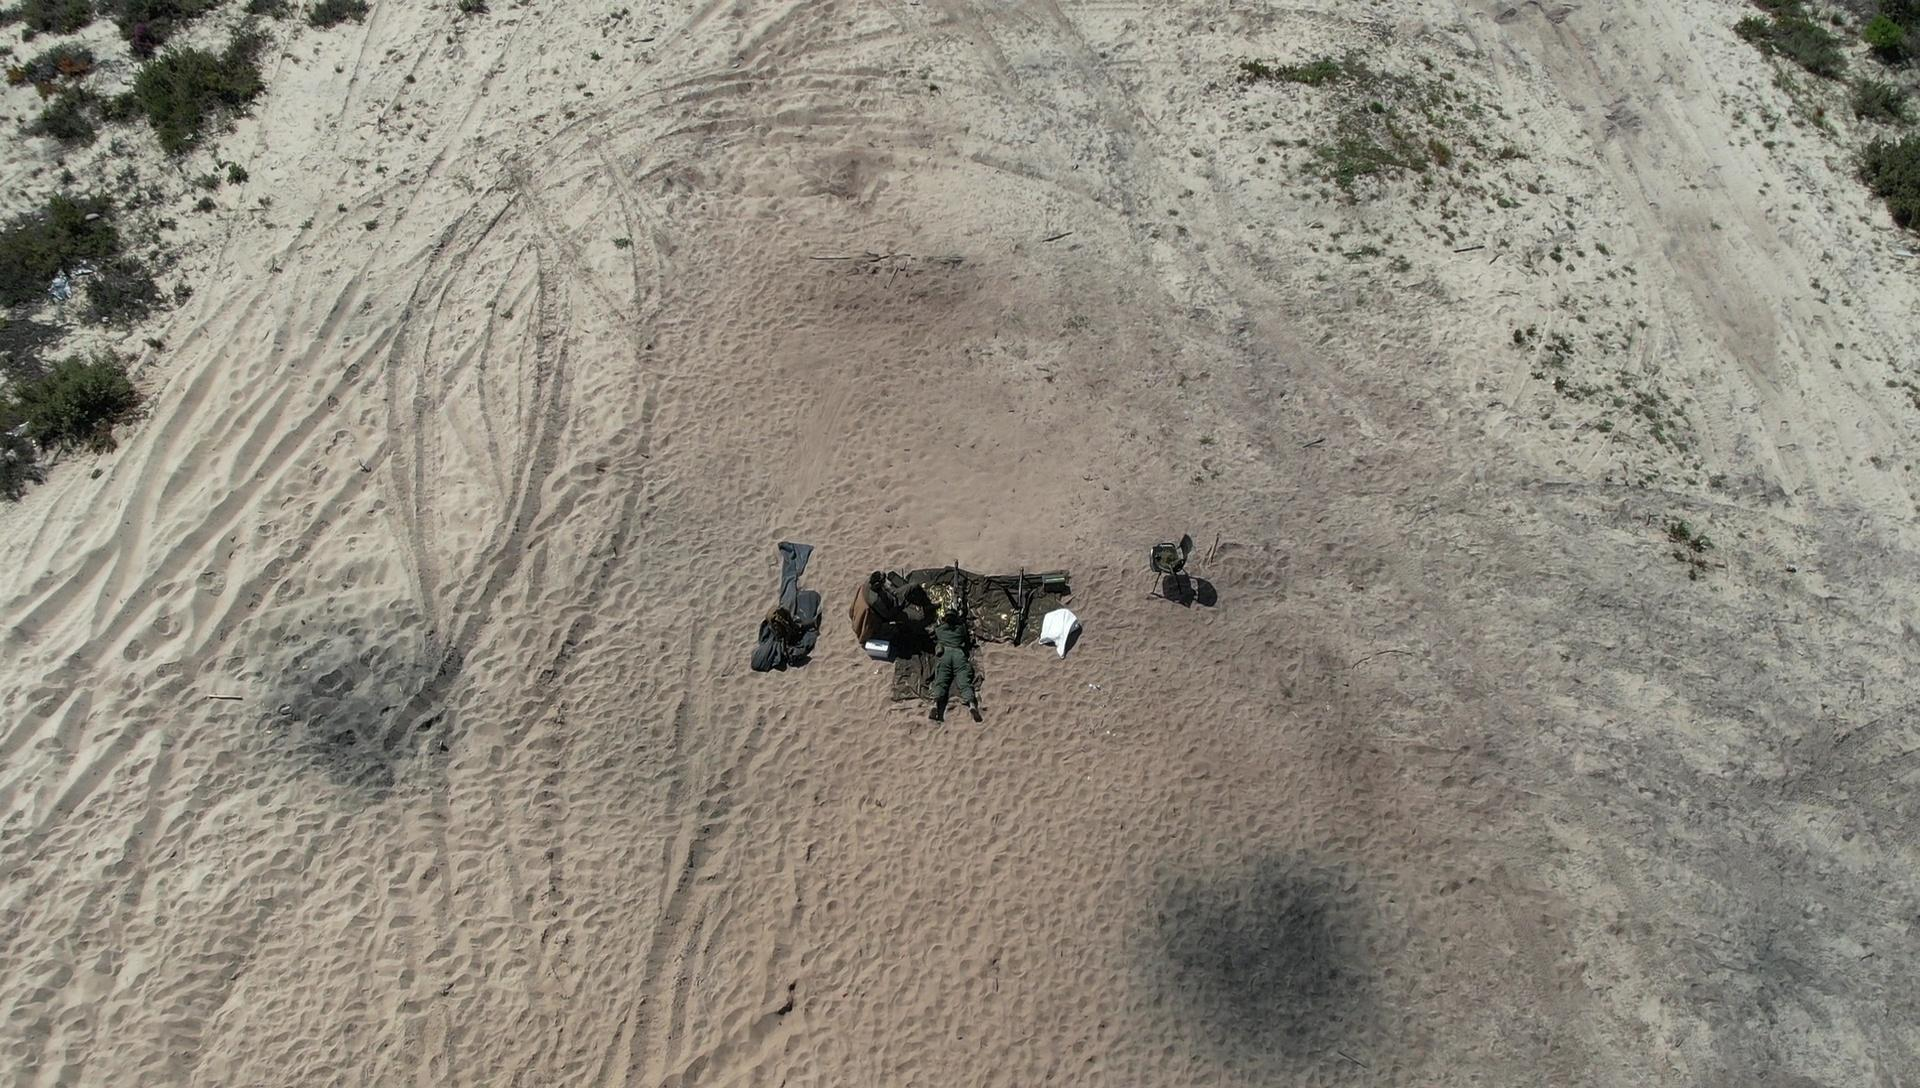Soldier: (922, 597, 986, 720), (858, 568, 920, 633)
